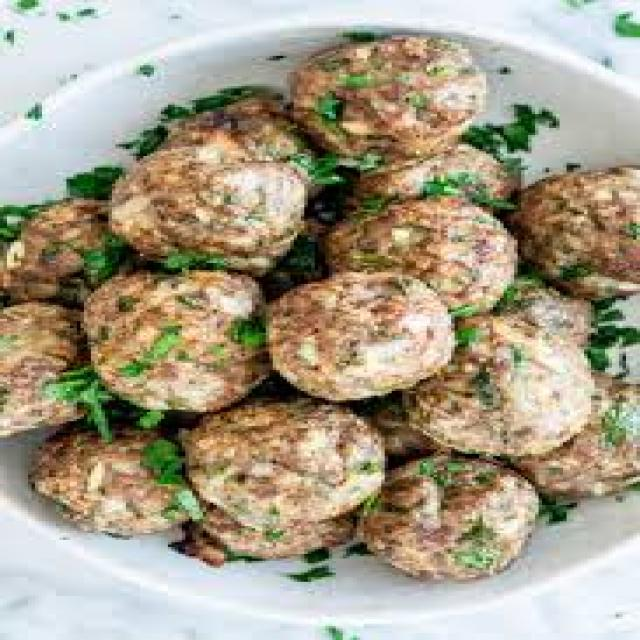meatball: (259, 12, 502, 164), (171, 394, 406, 522), (77, 263, 276, 406), (404, 309, 594, 456), (261, 264, 464, 401), (344, 453, 552, 580), (109, 146, 308, 267), (315, 192, 515, 309)
